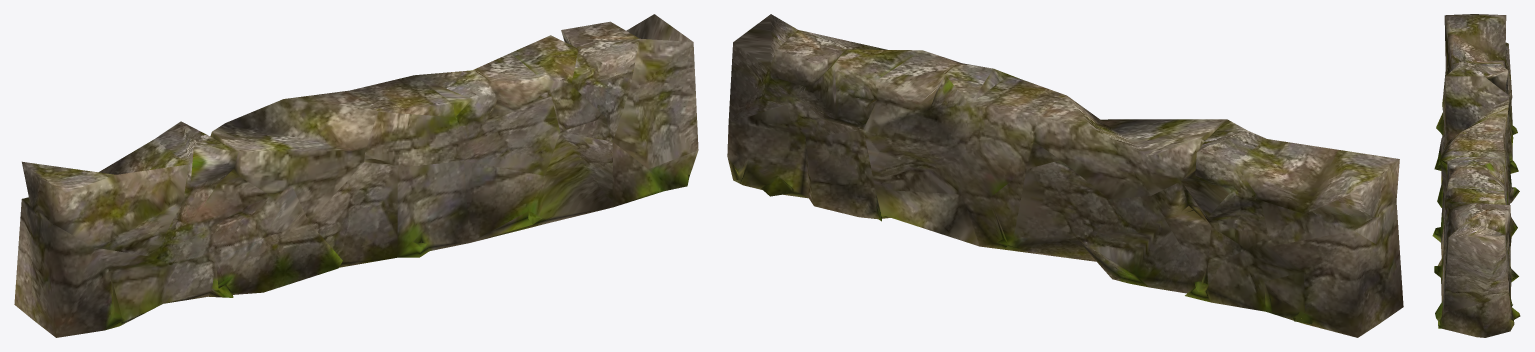
File: tas-duvar.glb
3 renders of one model, left to right at view 1: azimuth 30°, elevation 25°; view 2: azimuth 150°, elevation 25°; view 3: azimuth 270°, elevation 25°, orthographic. The views are drawn at different scales.
Visible parts, largest first — view 1: tripo_node_c62e8fab-1f63-43c6-bc94-095537ad267f; view 2: tripo_node_c62e8fab-1f63-43c6-bc94-095537ad267f; view 3: tripo_node_c62e8fab-1f63-43c6-bc94-095537ad267f.
Boxes of the visible parts, box(x1,y1,x2,y2) form: tripo_node_c62e8fab-1f63-43c6-bc94-095537ad267f: box(14, 14, 698, 337); tripo_node_c62e8fab-1f63-43c6-bc94-095537ad267f: box(727, 14, 1403, 337); tripo_node_c62e8fab-1f63-43c6-bc94-095537ad267f: box(1432, 14, 1520, 337).
Bounding box in the file's own units: 0.9774 × 0.2186 × 0.1639.
Materials: 1 (1 with a texture image).
